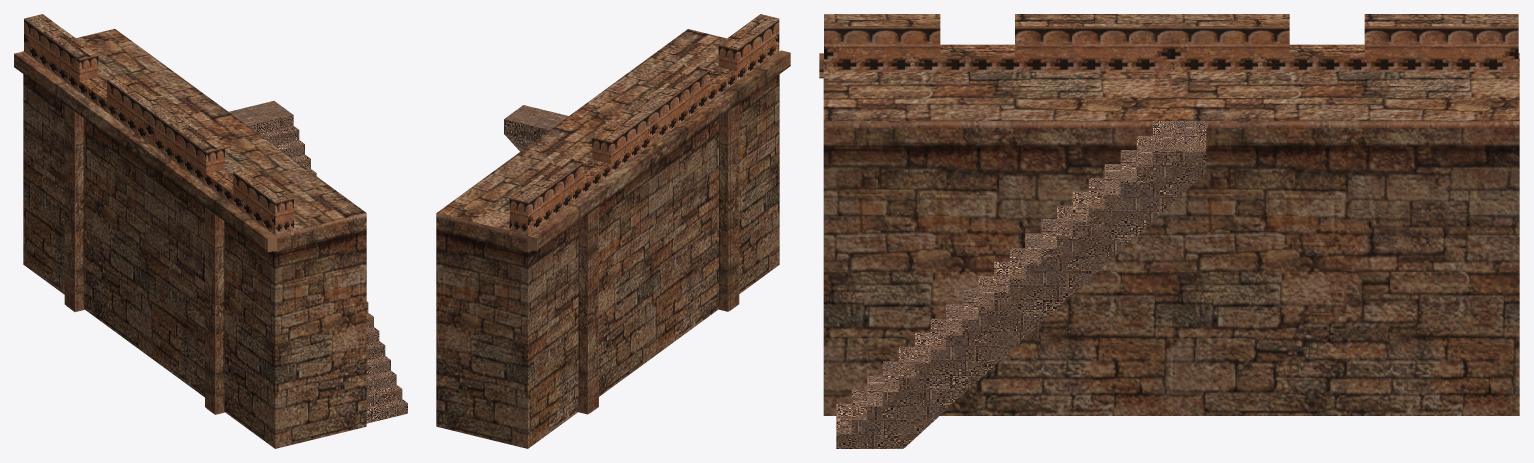
The model's file is IFRTc.glb.
3 views of the same model, side by side, from view 1: azimuth 30°, elevation 25°; view 2: azimuth 150°, elevation 25°; view 3: azimuth 270°, elevation 25° (orthographic). The views are drawn at different scales.
Parts seen in each view (by area): view 1: _IFRTc; view 2: _IFRTc; view 3: _IFRTc.
Boxes of the visible parts, x1,y1,x2,y2 form: _IFRTc: (14, 14, 407, 448); _IFRTc: (436, 14, 790, 448); _IFRTc: (819, 14, 1519, 448).
Size of the model in its own units: 4.63 by 7.45 by 13.81.
Materials: 3 (3 with a texture image).
